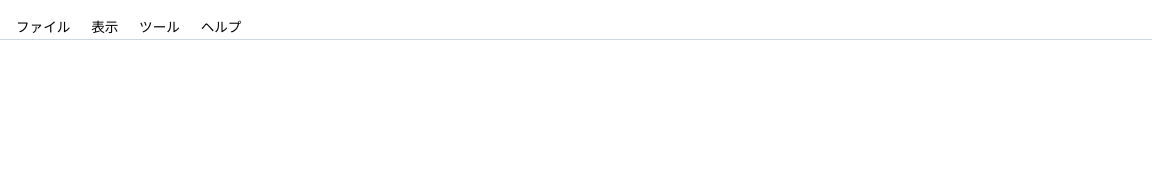
Scenario: MenuBar › チェック付き項目 (aria-checked) を描画する
Click the menu item with class "menubar-button" showing "表示": (105, 26) x1=82 y1=12 x2=128 y2=39
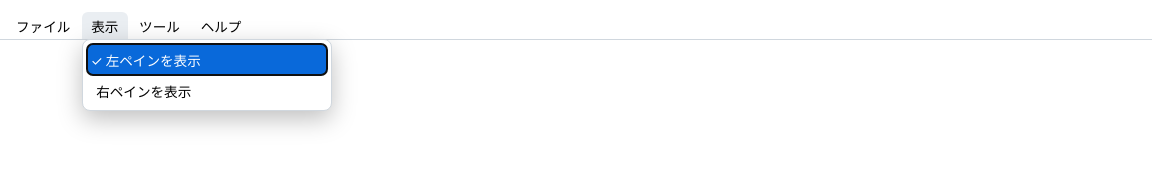
Expected: the text "✓" is not shown
Expected: the menu item "✓ 左ペインを表示" is shown, x1=86 y1=44 x2=326 y2=75
